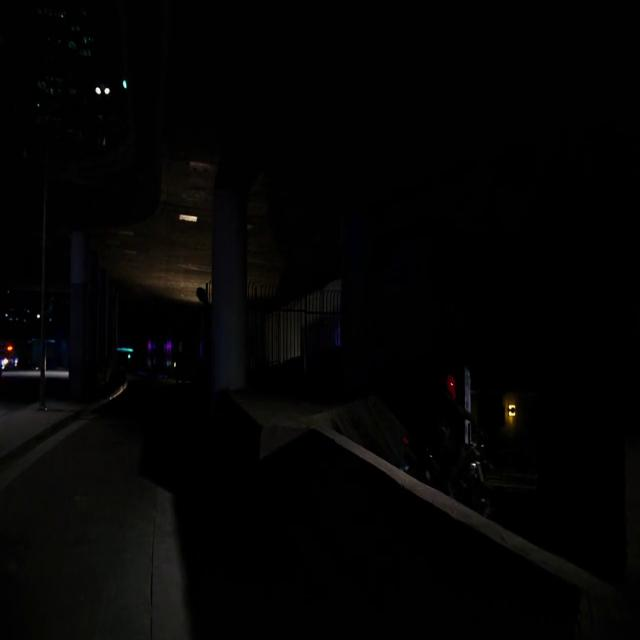Motorbike: (405, 364, 521, 586)
